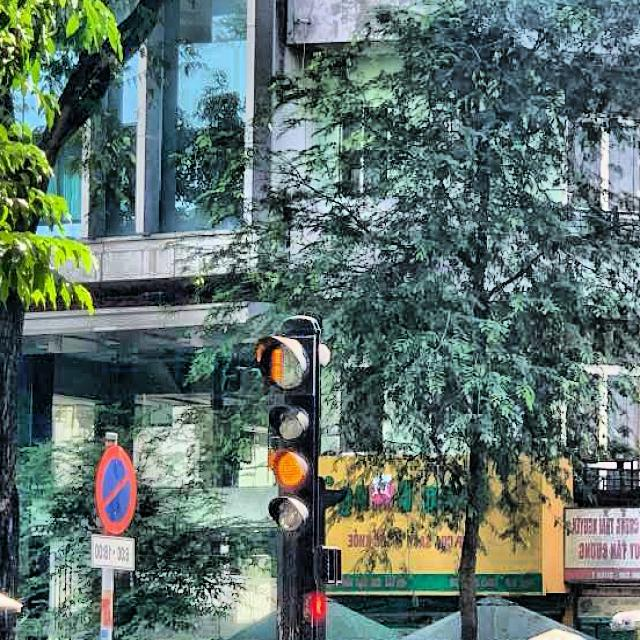yellow: (270, 406, 317, 540)
